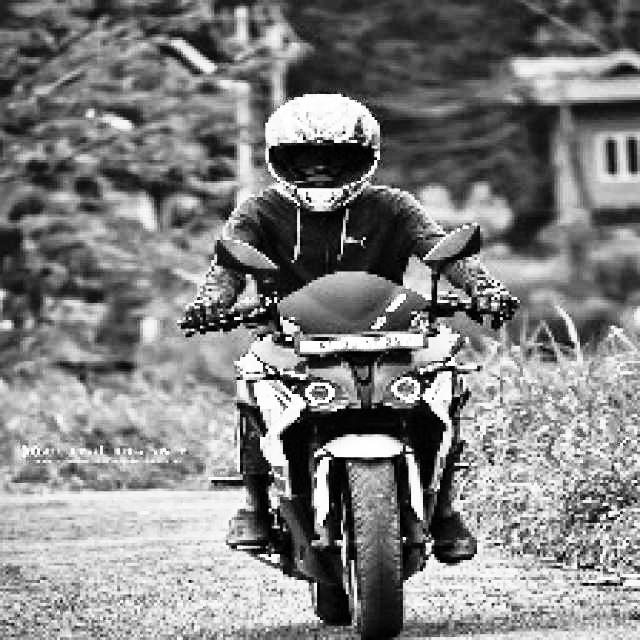Bike: (224, 282, 490, 628)
